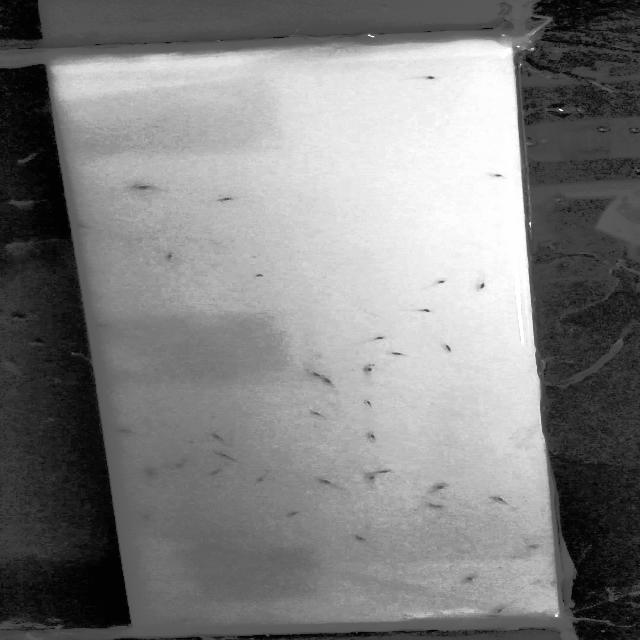shrimp: (412, 273, 456, 290), (487, 492, 521, 508), (359, 331, 397, 344), (451, 571, 485, 584), (354, 467, 398, 477), (472, 274, 492, 295), (210, 448, 238, 462), (206, 428, 230, 444), (360, 364, 379, 384), (434, 480, 454, 498), (206, 193, 238, 204), (316, 476, 342, 489), (250, 472, 277, 484), (68, 219, 97, 230), (424, 502, 450, 514), (286, 506, 308, 520), (240, 270, 269, 280), (161, 248, 178, 265), (128, 182, 164, 190), (303, 371, 329, 382), (86, 315, 112, 326), (111, 424, 139, 434), (414, 72, 442, 82), (473, 612, 507, 620), (170, 613, 197, 623), (412, 304, 436, 315), (363, 430, 384, 442), (433, 341, 454, 353), (481, 171, 507, 180), (348, 533, 373, 542), (492, 603, 512, 614), (174, 460, 196, 470), (204, 467, 224, 477), (308, 408, 328, 418), (140, 470, 162, 479), (361, 475, 385, 483), (384, 351, 409, 358), (518, 542, 542, 549), (137, 510, 155, 519), (322, 379, 339, 388), (362, 397, 376, 407)
